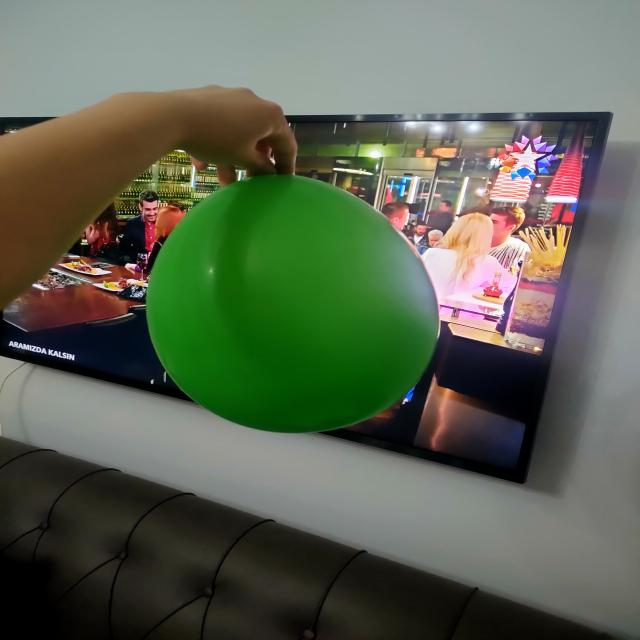green: (148, 173, 442, 437)
